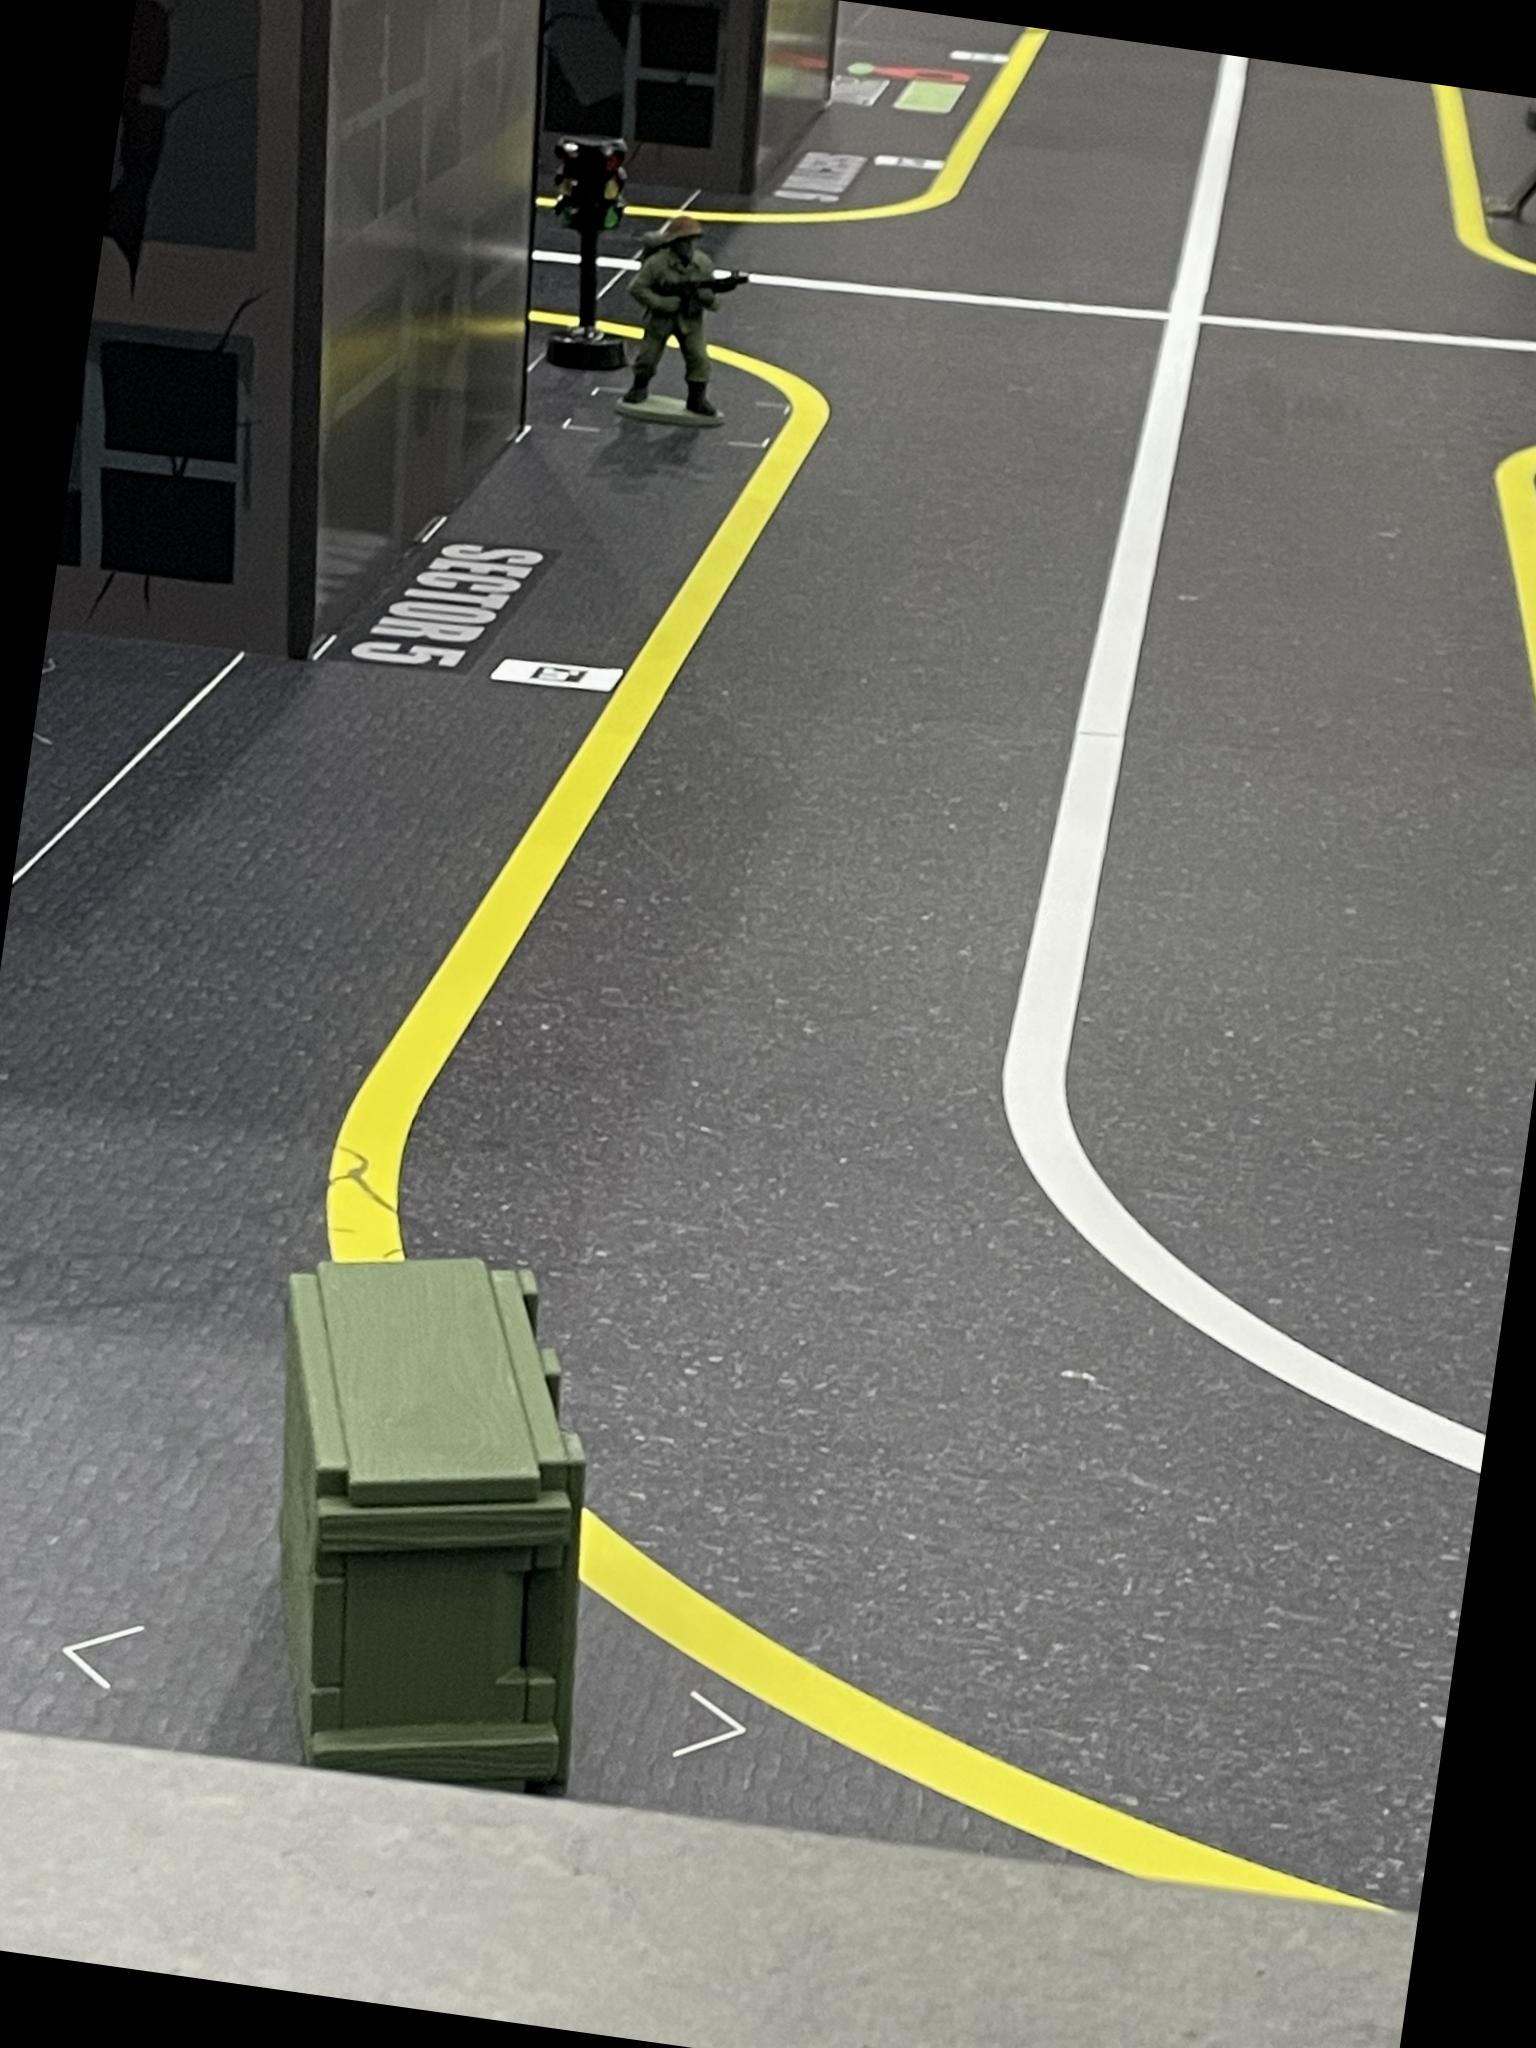Box: (213, 1222, 642, 1808)
Enemy: (613, 206, 762, 435)
Mortar: (1497, 95, 1536, 247)
